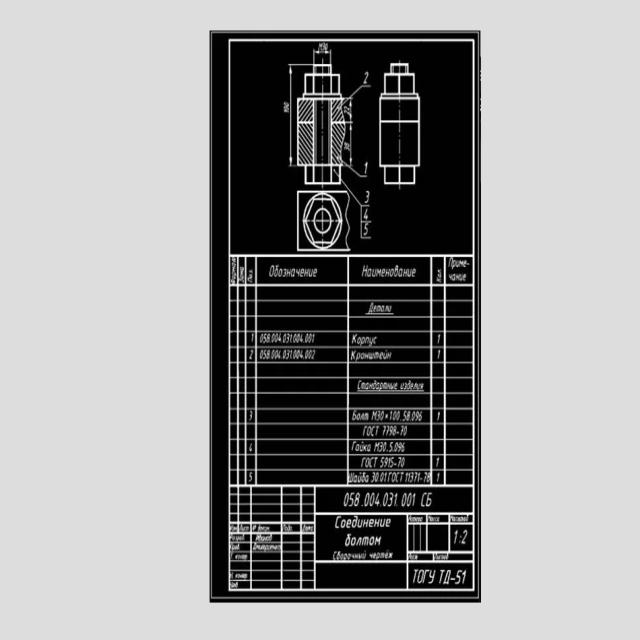marking_line: (286, 63, 296, 167), (346, 119, 354, 167), (285, 60, 313, 73), (313, 49, 332, 64), (346, 96, 355, 125)
numeric: (456, 569, 463, 586), (405, 491, 412, 508), (461, 528, 468, 544), (354, 491, 361, 507), (364, 188, 370, 204), (401, 491, 407, 507), (363, 69, 369, 84), (453, 529, 458, 547), (462, 570, 468, 585), (370, 492, 376, 507), (388, 492, 394, 507), (349, 491, 354, 508), (363, 222, 369, 236), (365, 492, 370, 508), (383, 491, 388, 507), (344, 492, 349, 508), (436, 270, 442, 283), (375, 493, 380, 507), (394, 493, 399, 506), (248, 350, 254, 360), (412, 492, 416, 507), (364, 160, 368, 174), (248, 471, 253, 482), (266, 349, 271, 360), (282, 333, 287, 344), (387, 472, 392, 483), (436, 333, 441, 343), (435, 457, 440, 467), (292, 333, 297, 343), (389, 442, 394, 452), (282, 101, 290, 107), (249, 410, 253, 422), (371, 471, 375, 483), (410, 472, 414, 484), (414, 471, 418, 483), (401, 456, 405, 468), (380, 456, 384, 468), (386, 425, 390, 437), (323, 42, 328, 51), (308, 333, 312, 344), (293, 349, 297, 360), (296, 349, 300, 360), (260, 349, 264, 360), (263, 349, 267, 360), (271, 349, 275, 360), (278, 333, 282, 344), (263, 333, 267, 344), (384, 472, 388, 483), (417, 472, 421, 483), (423, 472, 427, 483), (384, 457, 388, 468), (391, 457, 395, 468), (394, 442, 398, 453), (401, 442, 405, 453), (380, 441, 384, 452), (403, 425, 407, 436), (382, 426, 386, 437), (389, 425, 393, 436), (407, 411, 411, 422), (416, 411, 420, 422), (364, 209, 368, 219), (437, 350, 441, 360), (296, 333, 300, 343), (286, 349, 290, 359), (271, 333, 275, 343), (266, 334, 270, 344), (375, 472, 379, 482), (380, 473, 384, 483), (397, 457, 401, 467), (398, 442, 402, 452), (383, 442, 387, 452), (393, 426, 397, 436), (419, 411, 423, 421), (393, 411, 397, 421), (380, 411, 384, 421), (251, 331, 254, 344), (437, 411, 441, 420), (312, 350, 316, 359), (305, 350, 309, 359), (400, 426, 404, 435), (300, 349, 303, 360), (282, 349, 285, 360), (427, 473, 430, 484), (388, 457, 391, 468), (403, 410, 406, 421), (412, 411, 415, 422), (390, 411, 393, 422), (377, 411, 380, 422), (437, 473, 440, 483), (305, 334, 308, 344), (312, 333, 315, 343), (309, 349, 312, 359), (275, 349, 278, 359), (278, 350, 281, 360), (286, 333, 289, 343), (275, 333, 278, 343), (260, 333, 263, 343), (405, 472, 408, 482), (408, 473, 411, 483), (397, 410, 400, 420), (249, 443, 252, 452), (300, 334, 303, 343), (290, 350, 293, 359), (289, 334, 292, 343)
